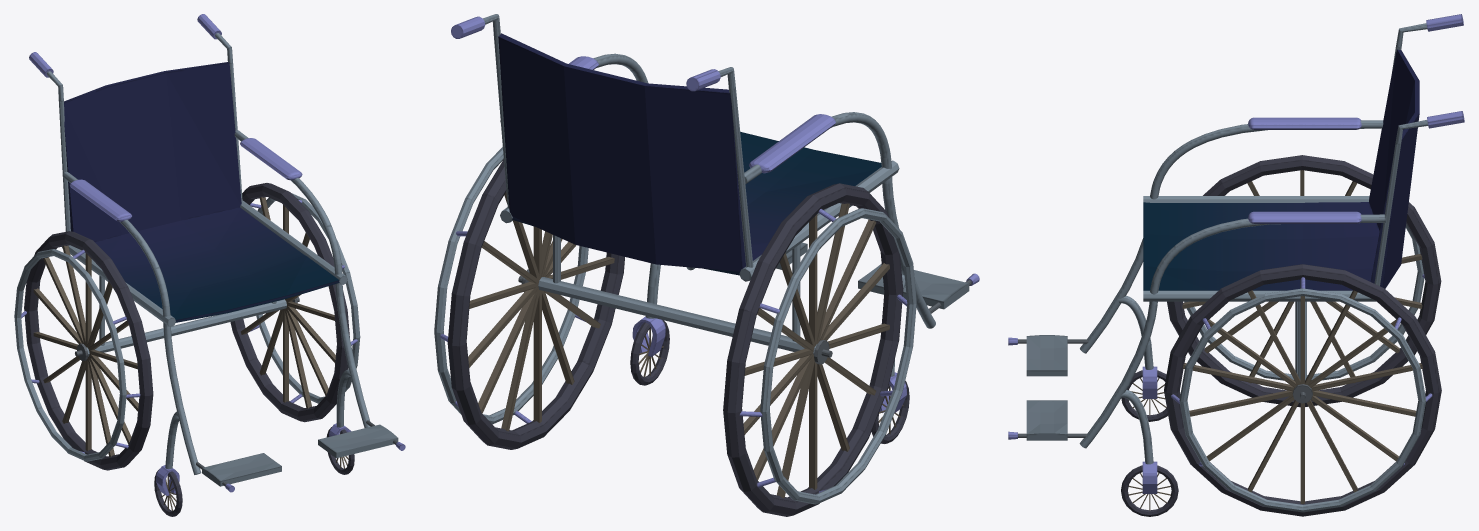
Rendered from Wheelchair.glb.
3 renders of one model, left to right at view 1: azimuth 30°, elevation 25°; view 2: azimuth 150°, elevation 25°; view 3: azimuth 270°, elevation 25°, orthographic. The views are drawn at different scales.
Parts seen in each view (by area): view 1: Node; view 2: Node; view 3: Node.
Boxes of the visible parts, x1,y1,x2,y2 form: Node: (14,14,405,516); Node: (434,14,979,516); Node: (1008,14,1464,516).
Size of the model in its own units: 149 by 215 by 217.
Materials: 1 (1 with a texture image).
